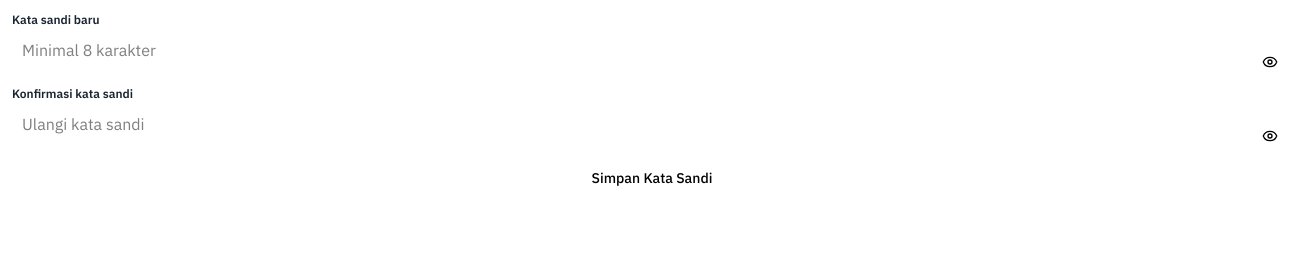
Test: Formulir perbarui kata sandi Neon Auth › menolak konfirmasi yang tidak cocok
In the password field labelled "Kata sandi baru": (652, 50) top-left (12, 34), bottom-right (1292, 66), type "rahasia123"
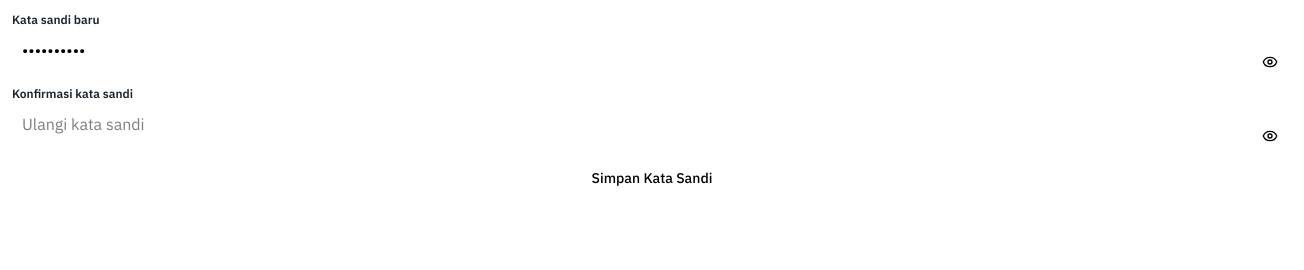
In the password field labelled "Konfirmasi kata sandi": (652, 124) top-left (12, 108), bottom-right (1292, 140), type "berbeda123"
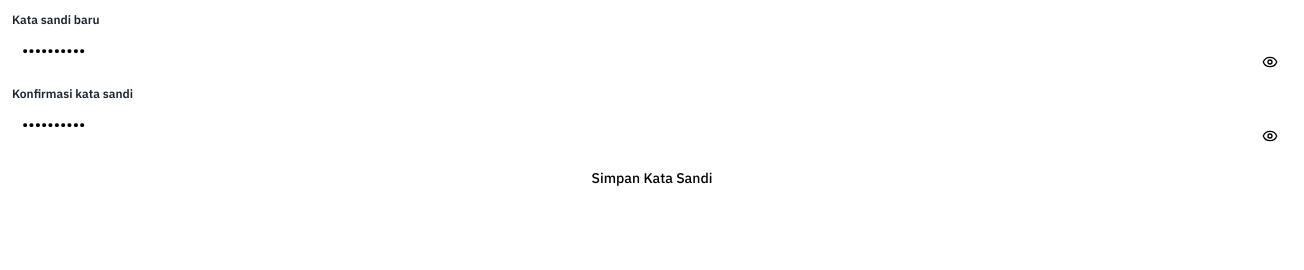
Submit the form labelled "Kata sandi baru"
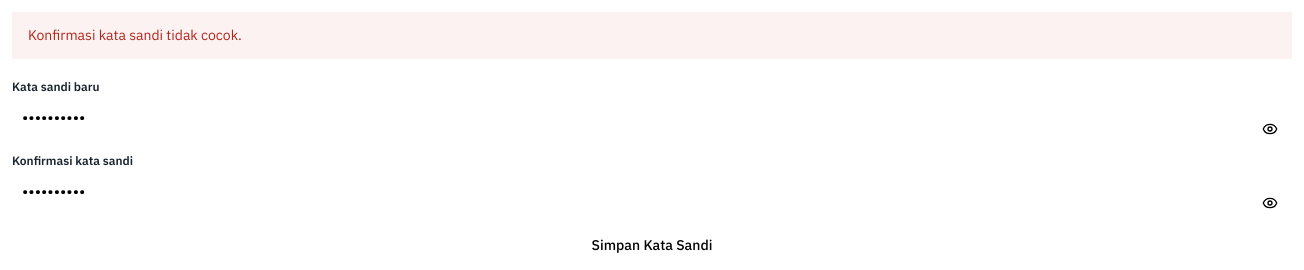
Now the text "Konfirmasi kata sandi tidak cocok." is shown, box top-left (12, 12), bottom-right (1292, 59)
